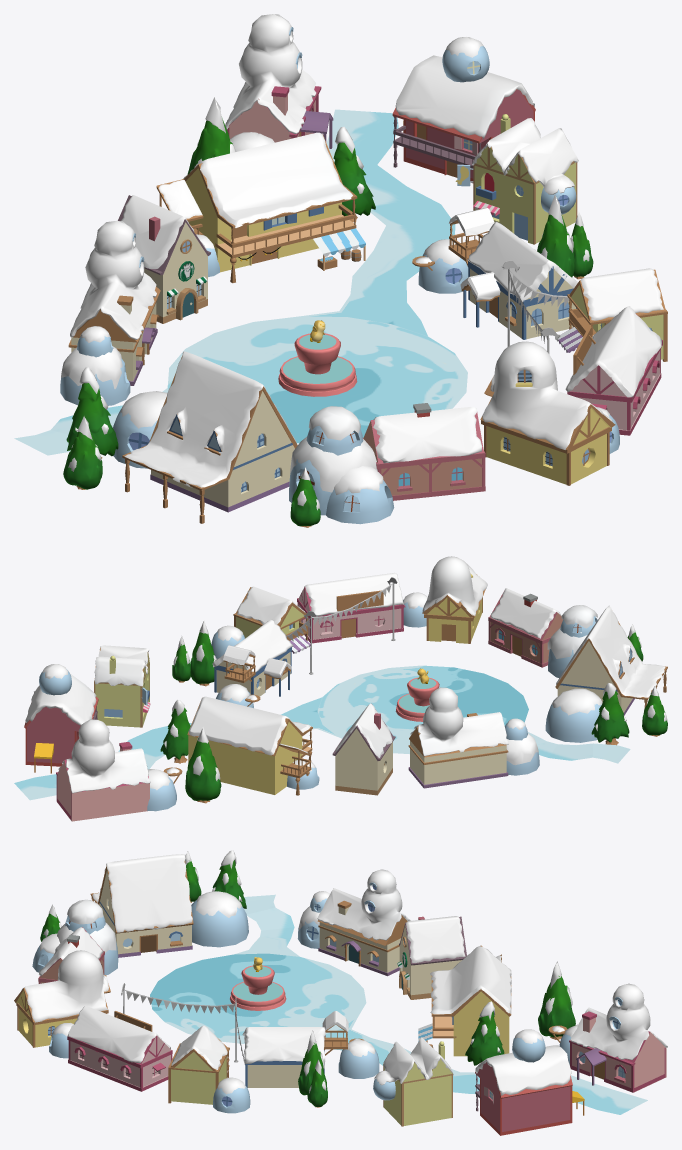
File: Nighborhood_IceBreakerAlley_02.fbx
3 renders of one model, top to bottom at view 1: azimuth 30°, elevation 25°; view 2: azimuth 150°, elevation 25°; view 3: azimuth 270°, elevation 25°, orthographic. The views are drawn at different scales.
Visible parts, largest first — view 1: Object_Road, Building_Platform2Story, Building_TallRoof, Building_House_1IglooStack, Building_House_FlatRoofIgloo, Building_2Roofs, Building_1StoryHouse, Building_Platformed1Story, Building_House_2IglooStack, Building_House_2IglooStack1, Building_3WayIgloo, Building_House_3Windows (+14 smaller); view 2: Object_Road, Building_Platform2Story, Building_House_2IglooStack1, Building_House_2IglooStack, Building_TallRoof, Building_House_3Windows, Building_House_FlatRoofIgloo, Building_House_1IglooStack, Building_2Roofs, Building_CoffeeShop, Building_Platformed1Story, Building_1StoryHouse (+17 smaller); view 3: Object_Road, Building_TallRoof, Building_House_FlatRoofIgloo, Building_House_2IglooStack, Building_House_2IglooStack1, Building_Platform2Story, Building_House_3Windows, Building_2Roofs, Building_House_1IglooStack, Building_Platformed1Story, Building_CoffeeShop, Building_PurpleTent (+16 smaller).
Part boxes in pixels (x1,y1,x2,y2): Object_Road: [14, 109, 467, 455]; Building_Platform2Story: [156, 132, 365, 283]; Building_TallRoof: [122, 351, 297, 523]; Building_House_1IglooStack: [480, 341, 615, 485]; Building_House_FlatRoofIgloo: [392, 37, 535, 183]; Building_2Roofs: [457, 114, 578, 244]; Building_1StoryHouse: [363, 403, 485, 500]; Building_Platformed1Story: [448, 207, 577, 339]; Building_House_2IglooStack: [225, 14, 333, 148]; Building_House_2IglooStack1: [68, 220, 160, 385]; Building_3WayIgloo: [289, 406, 394, 524]; Building_House_3Windows: [565, 306, 662, 435]; Object_Road: [14, 665, 630, 800]; Building_Platform2Story: [187, 696, 312, 795]; Building_House_2IglooStack1: [408, 687, 508, 788]; Building_House_2IglooStack: [56, 719, 150, 821]; Building_TallRoof: [555, 605, 667, 715]; Building_House_3Windows: [297, 572, 405, 643]; Building_House_FlatRoofIgloo: [24, 664, 98, 773]; Building_House_1IglooStack: [422, 556, 487, 643]; Building_2Roofs: [94, 645, 150, 727]; Building_CoffeeShop: [332, 703, 395, 795]; Building_Platformed1Story: [212, 619, 293, 696]; Building_1StoryHouse: [488, 588, 563, 667]; Object_Road: [150, 894, 647, 1114]; Building_TallRoof: [90, 854, 193, 957]; Building_House_FlatRoofIgloo: [475, 1029, 584, 1135]; Building_House_2IglooStack: [569, 983, 667, 1092]; Building_House_2IglooStack1: [317, 869, 411, 976]; Building_Platform2Story: [418, 945, 511, 1056]; Building_House_3Windows: [67, 1005, 172, 1091]; Building_2Roofs: [373, 1037, 453, 1126]; Building_House_1IglooStack: [14, 950, 110, 1047]; Building_Platformed1Story: [242, 1011, 348, 1087]; Building_CoffeeShop: [397, 916, 466, 999]; Building_PurpleTent: [168, 1025, 229, 1104].
Size of the model in its own units: 4251 by 759 by 4890.
